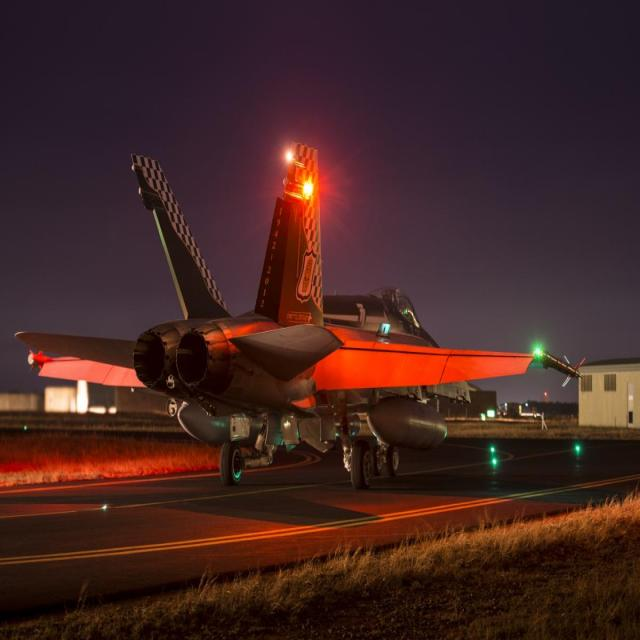MIL_Plane: (14, 140, 585, 489)
